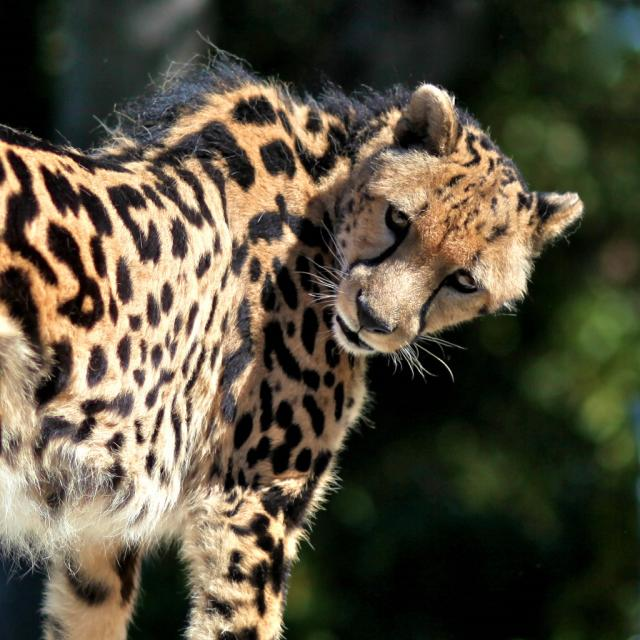Cheetah: (0, 37, 588, 640)
